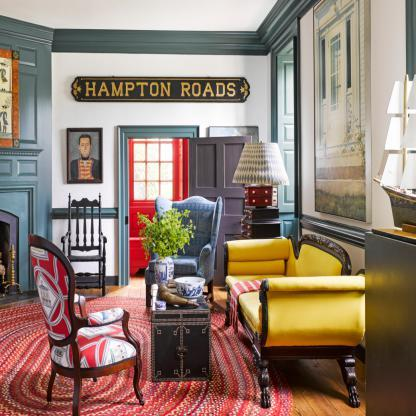chair: (22, 234, 145, 416), (149, 193, 229, 308), (59, 197, 111, 296)
door: (277, 55, 300, 238), (121, 129, 134, 282)
light: (229, 140, 292, 202)
sofa: (224, 225, 368, 409)
table: (152, 278, 210, 380), (235, 207, 283, 237)
